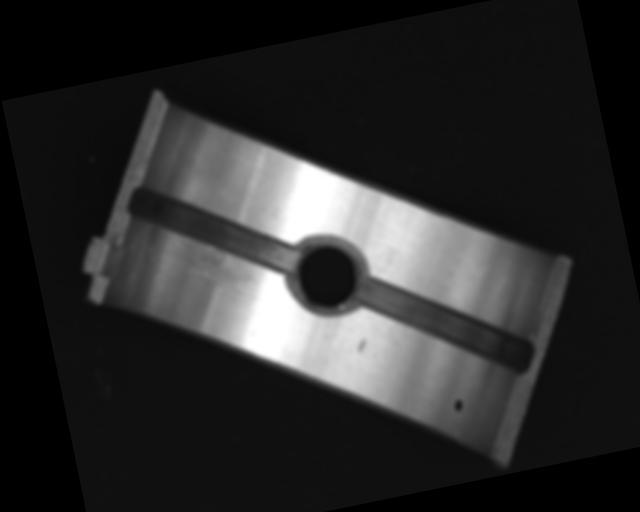blot: (452, 396, 464, 413)
bruise: (354, 337, 368, 353)
gap: (359, 249, 531, 398), (127, 156, 300, 299)
hole: (282, 228, 373, 322)
scratch: (163, 223, 263, 304)
